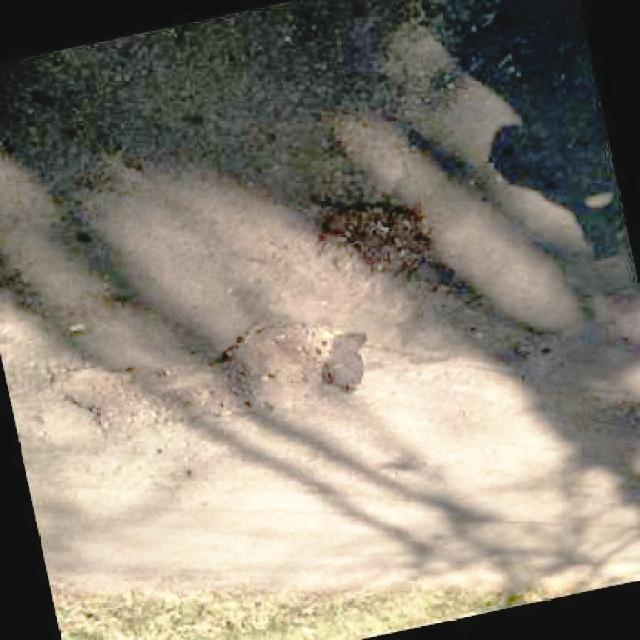pothole: (51, 314, 357, 441), (315, 192, 437, 298)
